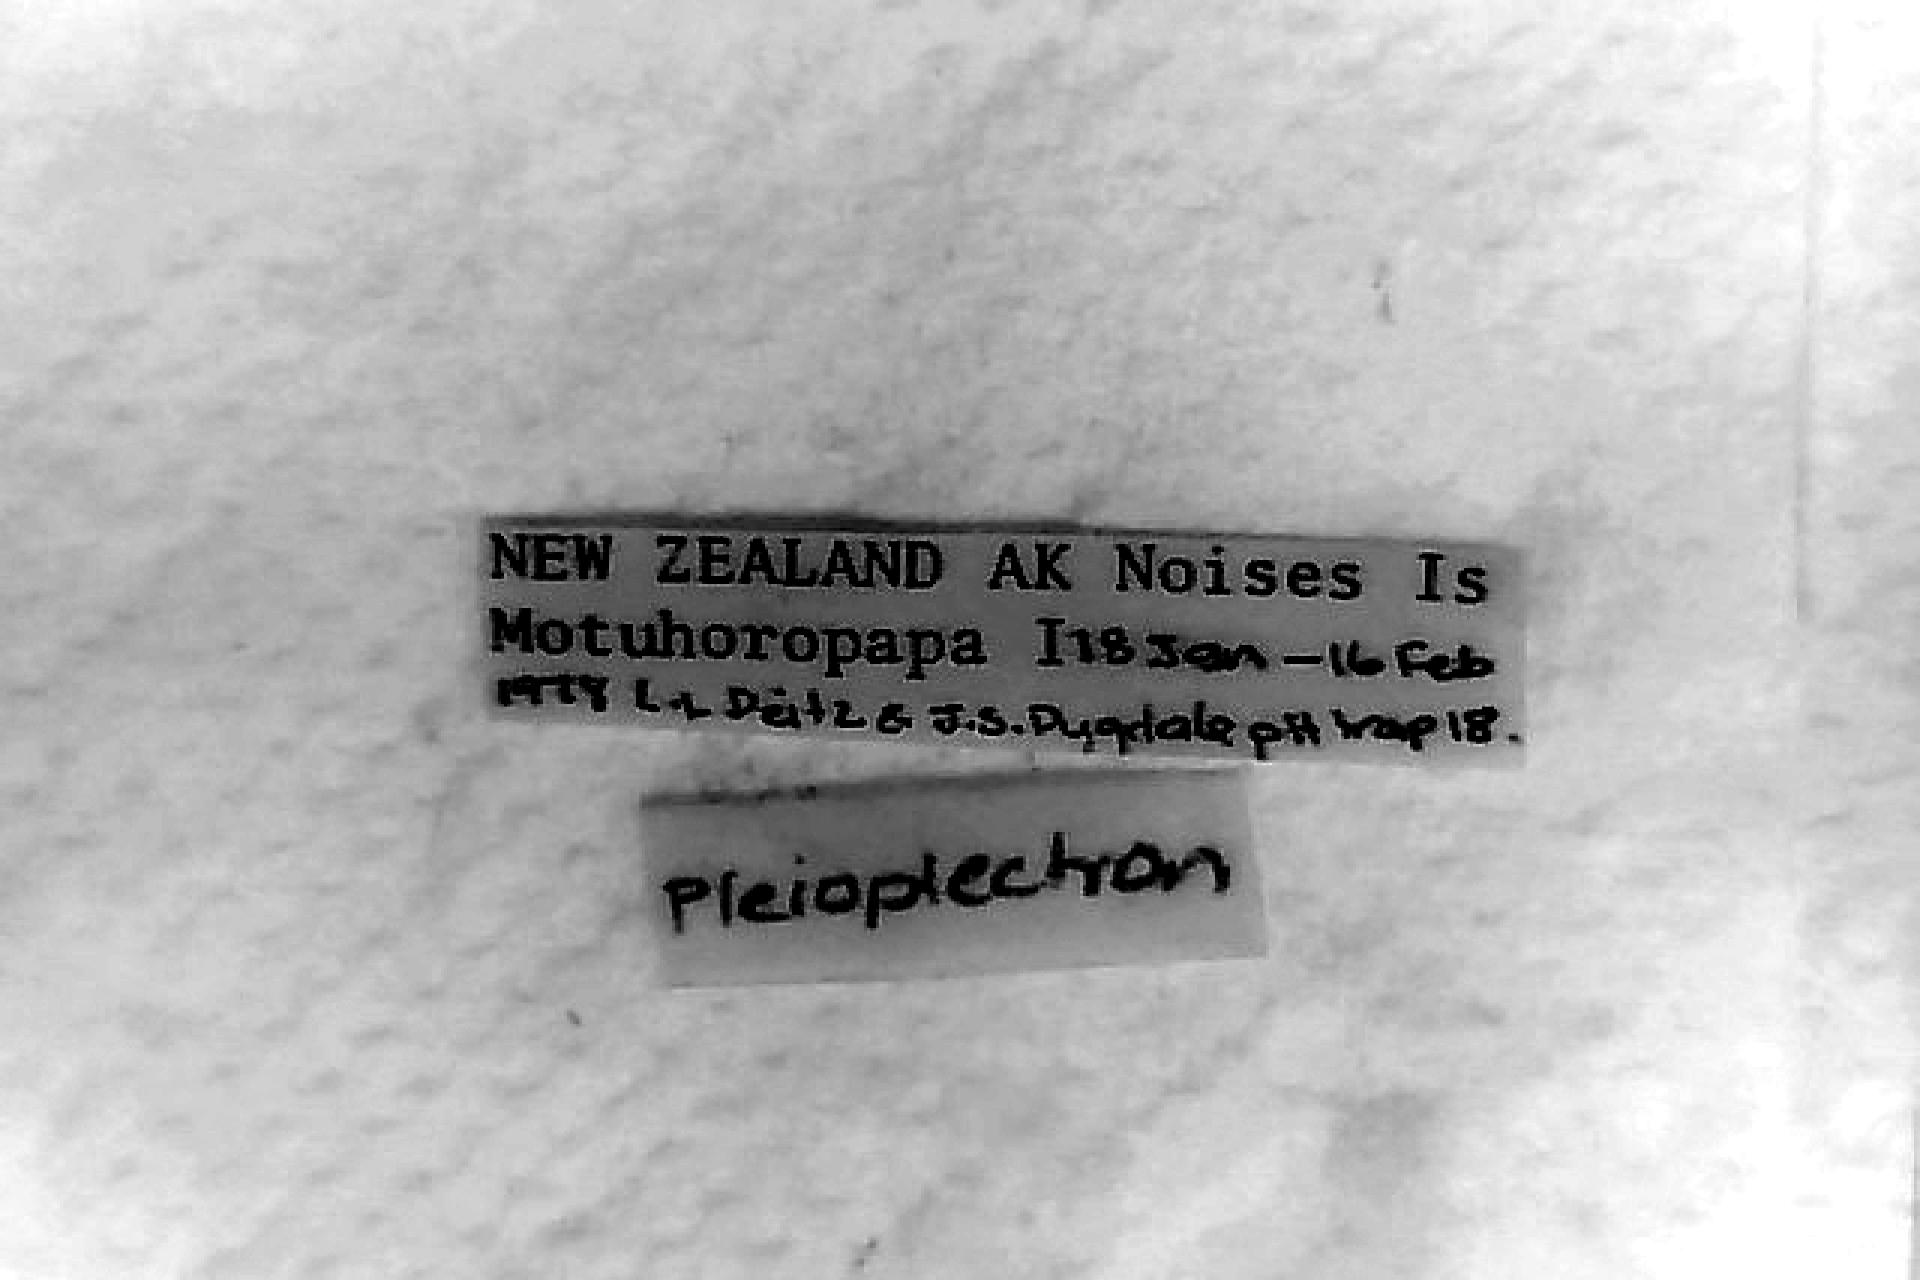hand_label: (645, 770, 1262, 987)
mixed_label: (488, 520, 1522, 762)
